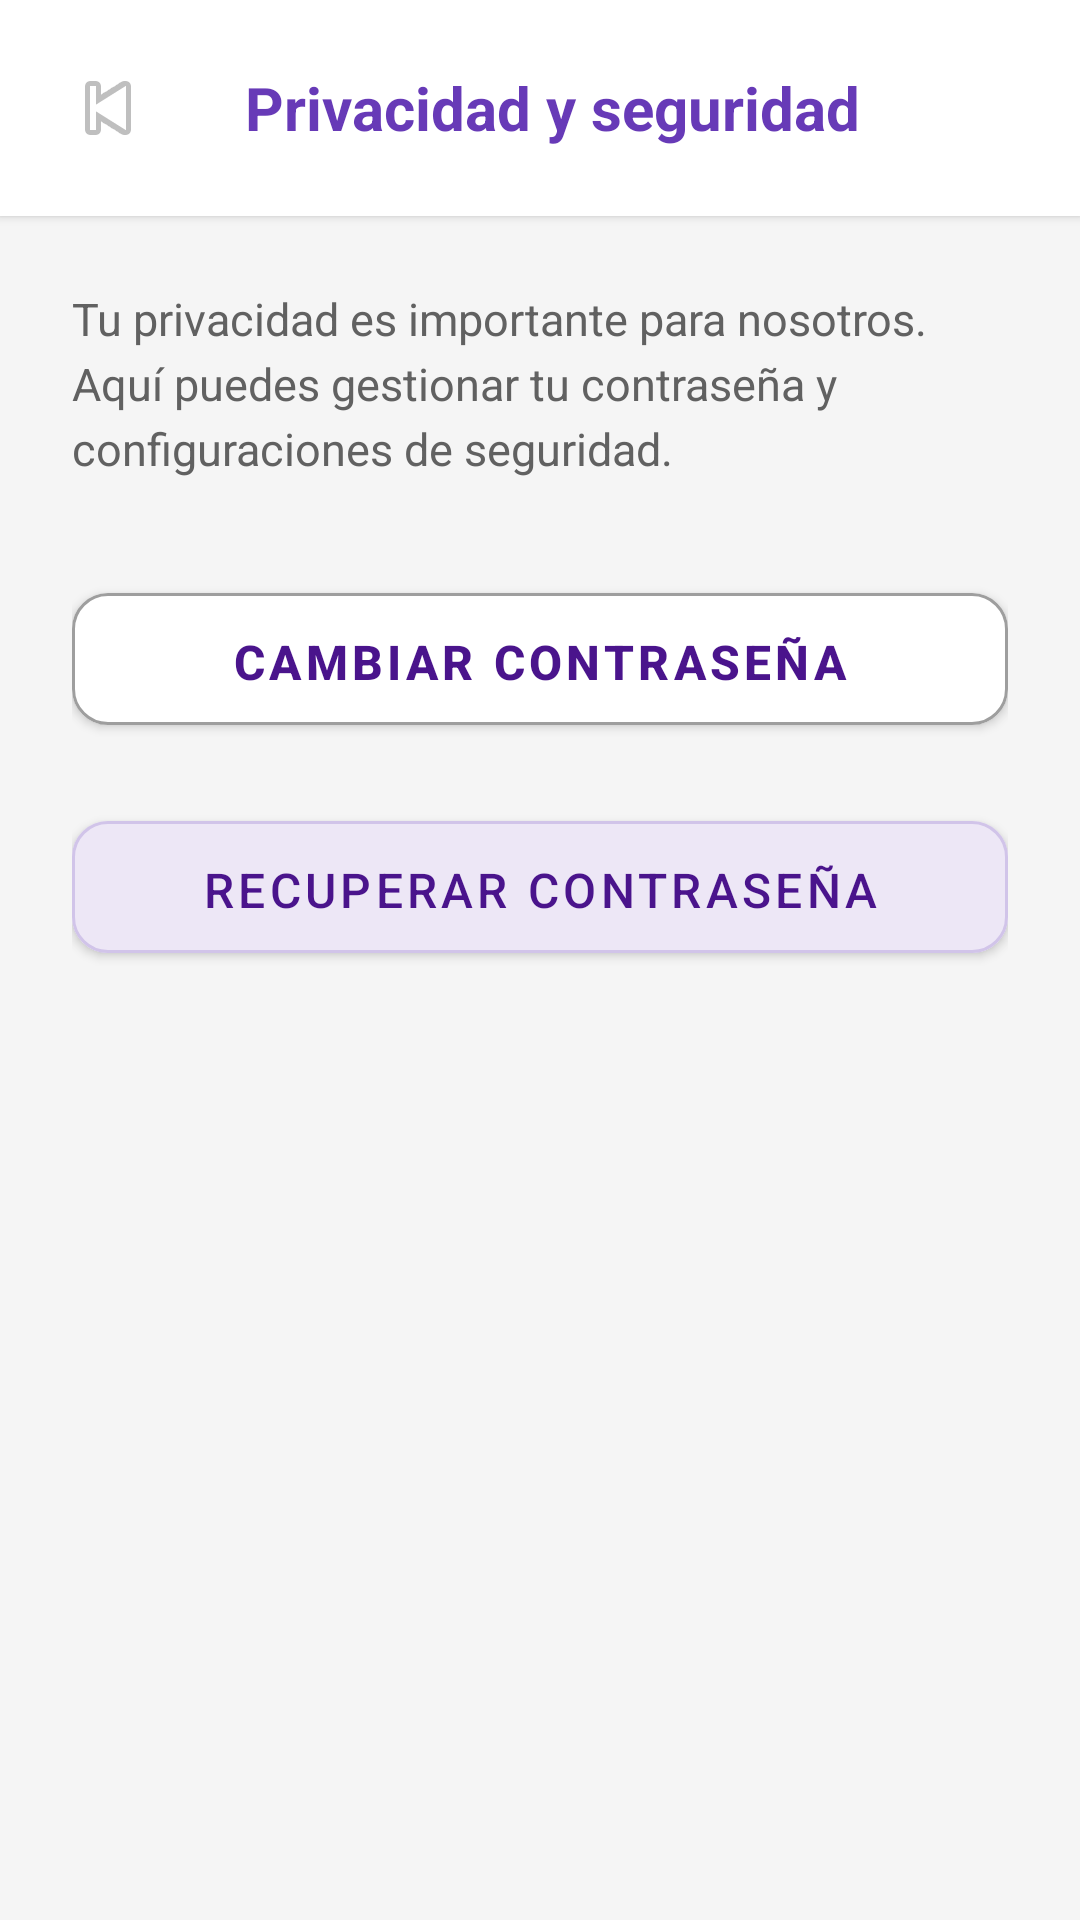

Icon click points for this 1080 × 1920 phone screenshot, format (x,y):
Volver: (108,108)
